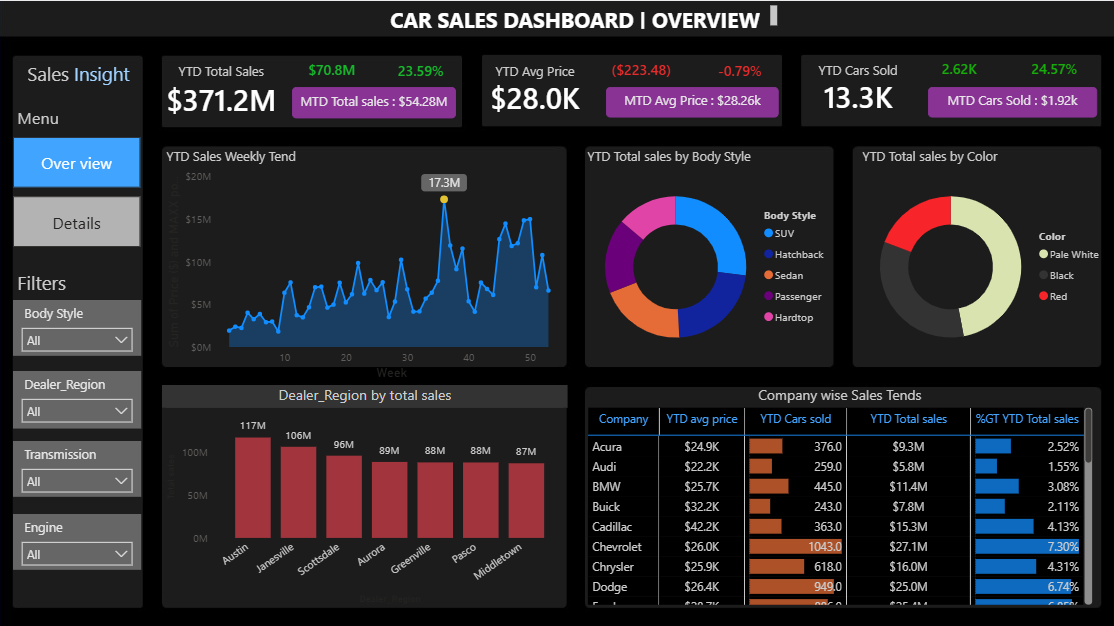

The page's visual inventory and layout, read from the dashboard file:
{"tool":"powerbi","page":{"name":"Over view","canvas":[1280,720],"ordinal":0},"visuals":[{"type":"card","title":"YTD Total Sales","fields":{"Values":["car_data.YTD Total sales"]},"box":[178.8,69.7,152,66.1],"z":0},{"type":"card","fields":{"Values":["car_data.Sales Difference"]},"box":[332.6,63.4,97.9,34.6],"z":1000},{"type":"card","fields":{"Values":["car_data.YOY Growth Sales"]},"box":[434.9,64.8,97.9,33.1],"z":2000},{"type":"card","fields":{"Values":["car_data.MTD KPI"]},"box":[336.1,98.3,187.7,35.8],"z":3000},{"type":"card","title":"YTD Avg Price","fields":{"Values":["car_data.YTD avg price"]},"box":[532.7,69.7,162.7,62.6],"z":4000},{"type":"card","fields":{"Values":["car_data.Avg price diff"]},"box":[688.4,64.5,96.8,33.8],"z":5000},{"type":"card","fields":{"Values":["car_data.YOY price growth"]},"box":[801,64.8,96.2,33.4],"z":6000},{"type":"card","fields":{"Values":["car_data.MTD avg price KPI"]},"box":[696.1,98.3,198.2,35.3],"z":7000},{"type":"card","title":"YTD Cars Sold","fields":{"Values":["car_data.YTD Cars sold"]},"box":[903.5,69.1,162.9,63],"z":8000},{"type":"card","fields":{"Values":["car_data.cars sold diff"]},"box":[1052.6,63,96.8,33.8],"z":9000},{"type":"card","fields":{"Values":["car_data.YOY cars sold growth"]},"box":[1161.7,63,96.8,33.8],"z":10000},{"type":"card","fields":{"Values":["car_data.MTD Cars solds KPI"]},"box":[1064.9,98.3,193.6,35.3],"z":11000},{"type":"areaChart","title":"YTD Sales Weekly Tend","fields":{"Category":["calendar.Week"],"Y":["Sum(car_data.Price ($))","car_data.MAXX point"]},"box":[187.2,167,465.1,272.2],"z":12000},{"type":"donutChart","fields":{"Category":["car_data.Body Style"],"Y":["car_data.YTD Total sales"]},"box":[670,167.5,290.4,255.1],"z":13000},{"type":"donutChart","fields":{"Y":["car_data.YTD Total sales"],"Category":["car_data.Color"]},"box":[985,167.5,290.4,255.1],"z":14000},{"type":"tableEx","title":"Company wise Sales Tends","fields":{"Values":["car_data.Company","car_data.YTD avg price","car_data.YTD Cars sold","car_data.YTD Total sales1","car_data.YTD Total sales"]},"box":[669.4,439.8,589,257.2],"z":15000},{"type":"textbox","box":[432,0,465.1,37.4],"z":16000},{"type":"slicer","fields":{"Values":["car_data.Body Style"]},"box":[16.1,343.2,146.6,64.4],"z":17000},{"type":"columnChart","title":" Dealer_Region by total sales","fields":{"Category":["car_data.Dealer_Region"],"Y":["car_data.Total sales"]},"box":[187.2,440.6,465.1,256.3],"z":18000},{"type":"slicer","fields":{"Values":["car_data.Dealer_Region"]},"box":[16.1,423.7,146.6,66.1],"z":19000},{"type":"slicer","fields":{"Values":["car_data.Transmission"]},"box":[16.1,504.1,146.6,64.4],"z":20000},{"type":"slicer","fields":{"Values":["car_data.Engine"]},"box":[16.1,588.2,146.6,64.4],"z":21000},{"type":"textbox","box":[16.1,303.9,73.3,39.3],"z":22000},{"type":"textbox","box":[16.1,64.4,150.2,39.3],"z":23000},{"type":"textbox","box":[16.1,116.2,73.3,39.3],"z":24000},{"type":"pageNavigator","box":[16.1,155.5,146.6,126.9],"z":25000}]}

Visuals, with their boxes in screenshot pixels (x1, y1, x2, y2), scaled from the page's 1280x720 canvas onto the 1114x626 screenshot:
"YTD Total Sales" card: l=156, t=61, r=288, b=118
card - car_data.Sales Difference: l=289, t=55, r=375, b=85
card - car_data.YOY Growth Sales: l=378, t=56, r=464, b=85
card - car_data.MTD KPI: l=293, t=85, r=456, b=117
"YTD Avg Price" card: l=464, t=61, r=605, b=115
card - car_data.Avg price diff: l=599, t=56, r=683, b=85
card - car_data.YOY price growth: l=697, t=56, r=781, b=85
card - car_data.MTD avg price KPI: l=606, t=85, r=778, b=116
"YTD Cars Sold" card: l=786, t=60, r=928, b=115
card - car_data.cars sold diff: l=916, t=55, r=1000, b=84
card - car_data.YOY cars sold growth: l=1011, t=55, r=1095, b=84
card - car_data.MTD Cars solds KPI: l=927, t=85, r=1095, b=116
"YTD Sales Weekly Tend" areaChart: l=163, t=145, r=568, b=382
donutChart - car_data.Body Style x car_data.YTD Total sales: l=583, t=146, r=836, b=367
donutChart - car_data.YTD Total sales x car_data.Color: l=857, t=146, r=1110, b=367
"Company wise Sales Tends" tableEx: l=583, t=382, r=1095, b=606
textbox: l=376, t=0, r=781, b=33
slicer - car_data.Body Style: l=14, t=298, r=142, b=354
" Dealer_Region by total sales" columnChart: l=163, t=383, r=568, b=606
slicer - car_data.Dealer_Region: l=14, t=368, r=142, b=426
slicer - car_data.Transmission: l=14, t=438, r=142, b=494
slicer - car_data.Engine: l=14, t=511, r=142, b=567
textbox: l=14, t=264, r=78, b=298
textbox: l=14, t=56, r=145, b=90
textbox: l=14, t=101, r=78, b=135
pageNavigator: l=14, t=135, r=142, b=246
